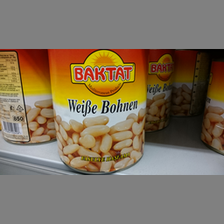beans: (48, 49, 147, 174), (1, 49, 47, 146), (175, 49, 207, 127)
